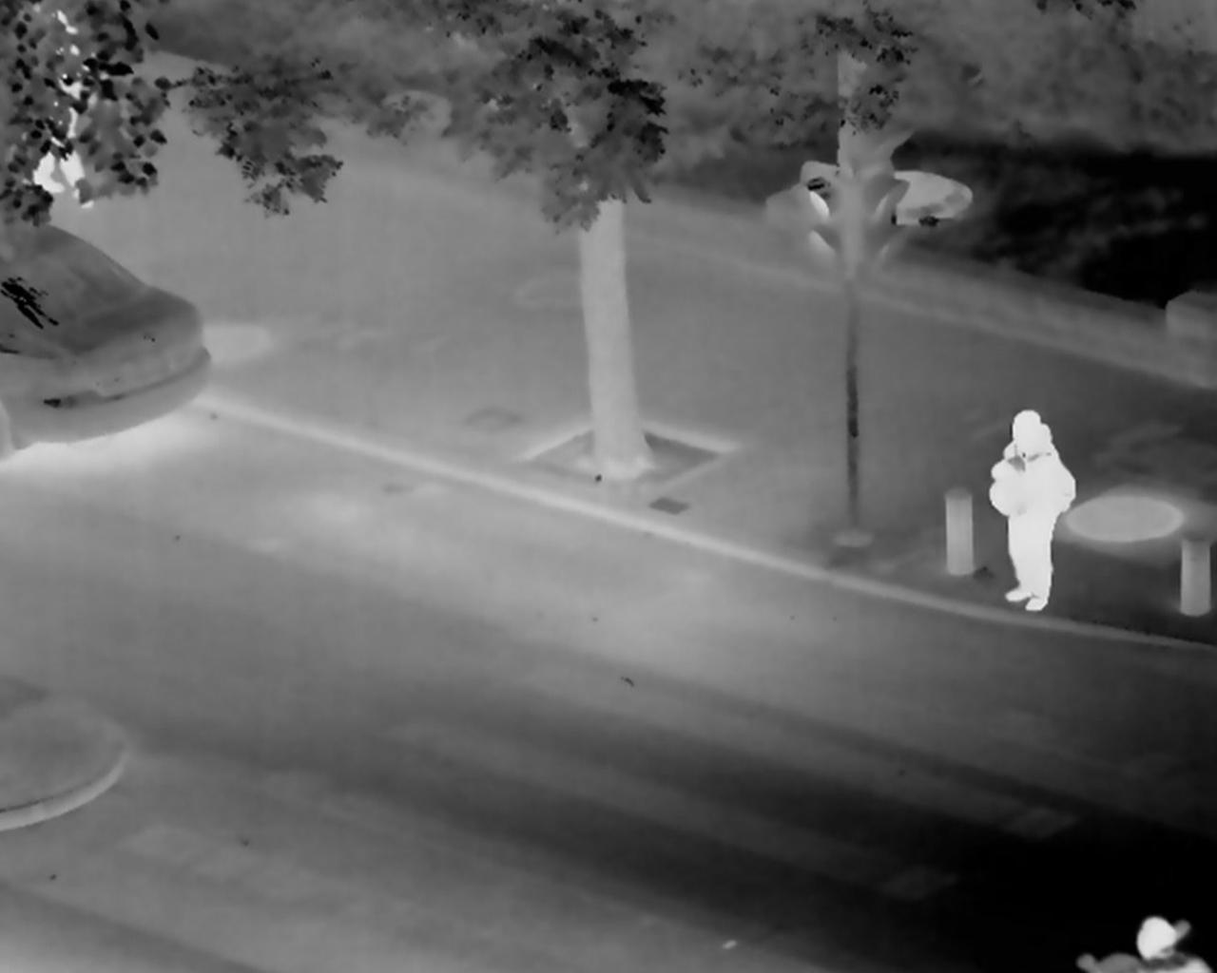person: (988, 407, 1068, 621), (17, 7, 99, 209)
